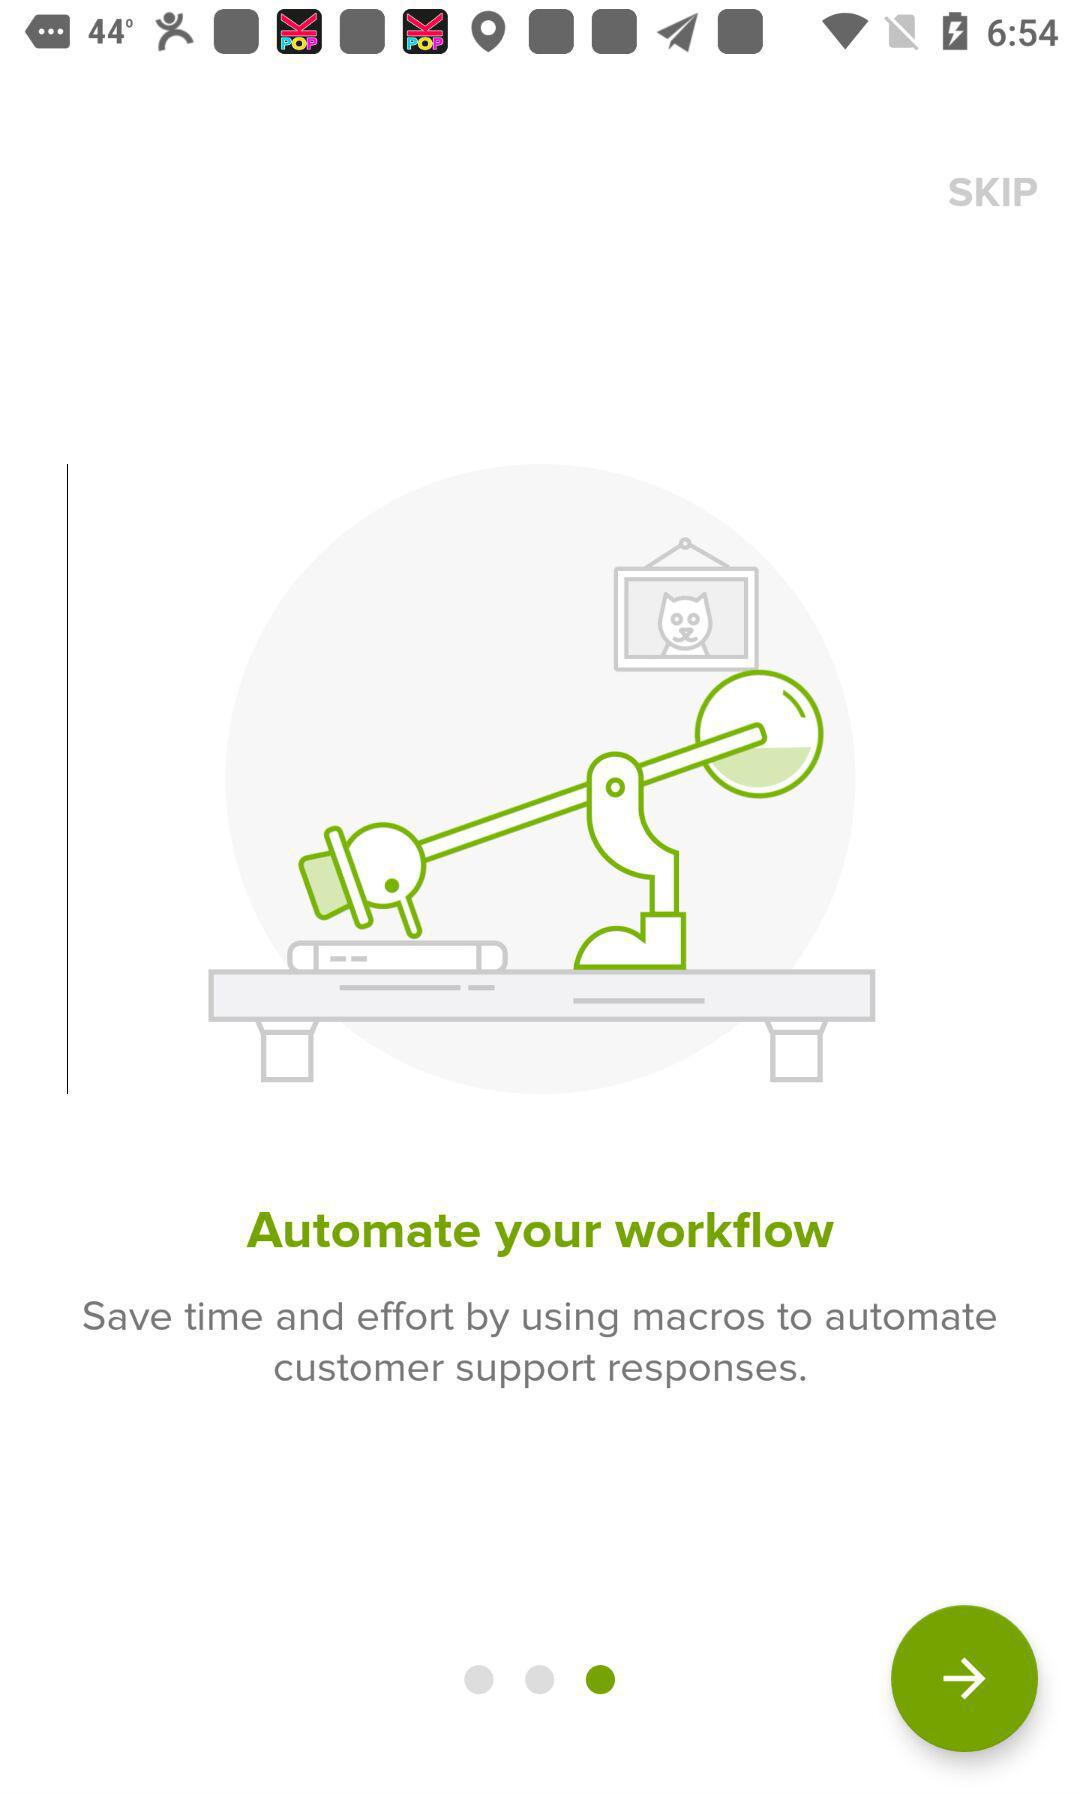Icon: (890, 1604, 1039, 1753)
Image: (208, 463, 878, 1097)
PageIndicator: (462, 1665, 618, 1697)
Text: (83, 1299, 997, 1390), (245, 1210, 835, 1258), (948, 178, 1038, 208)
UpperTaskBar: (1, 1, 1080, 64)
